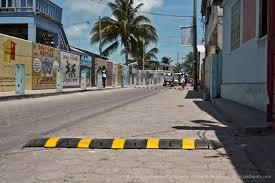Bump: (30, 137, 215, 151)
